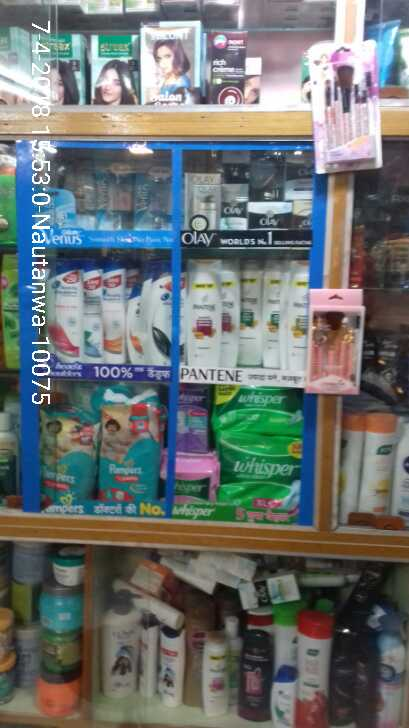ambipureVesus: (379, 612, 408, 728)
venus: (137, 158, 168, 229), (99, 157, 130, 227), (47, 187, 73, 228)
